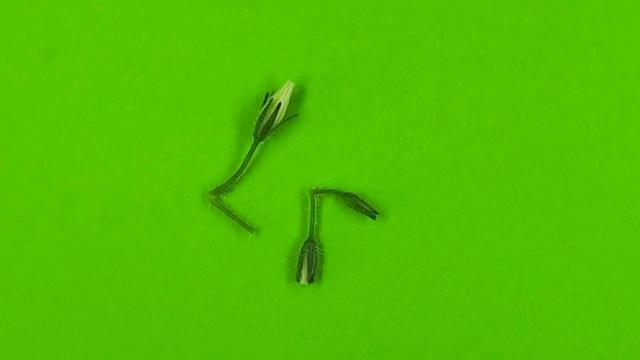Flower Bud: (254, 78, 297, 142), (335, 191, 380, 220), (296, 240, 320, 286)
